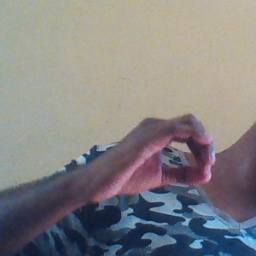O: (100, 107, 220, 198)
